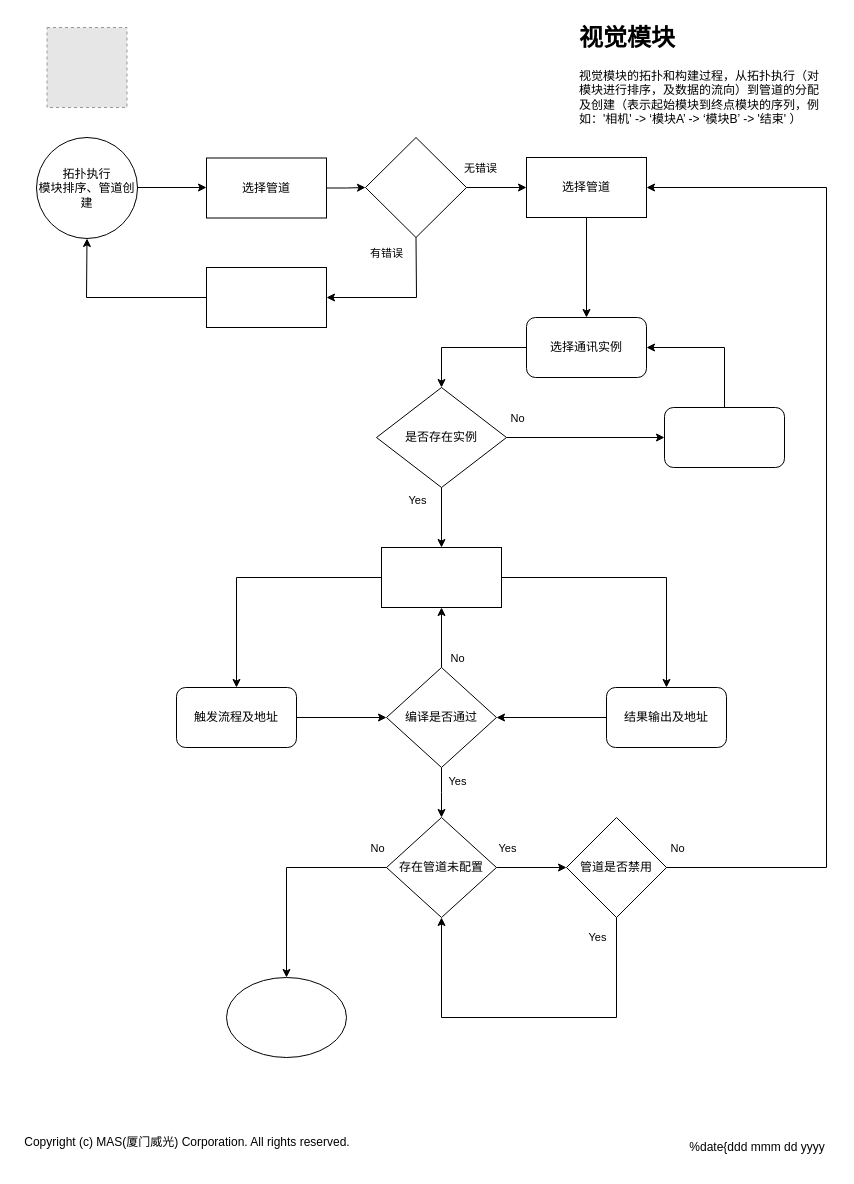
This 854x1184 diagram has some shape labels left out. Grey dashed boxes stand in for pictures. The centre of each missing label's shape, as x and y in pixels:
创建通讯实例: [724,437]
启动 / 运行按钮启用: [286,1017]
定义数据交换: [441,577]
手动触发执行: [415,187]
解决错误: [266,297]
